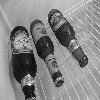beer: (11, 26, 37, 99)
